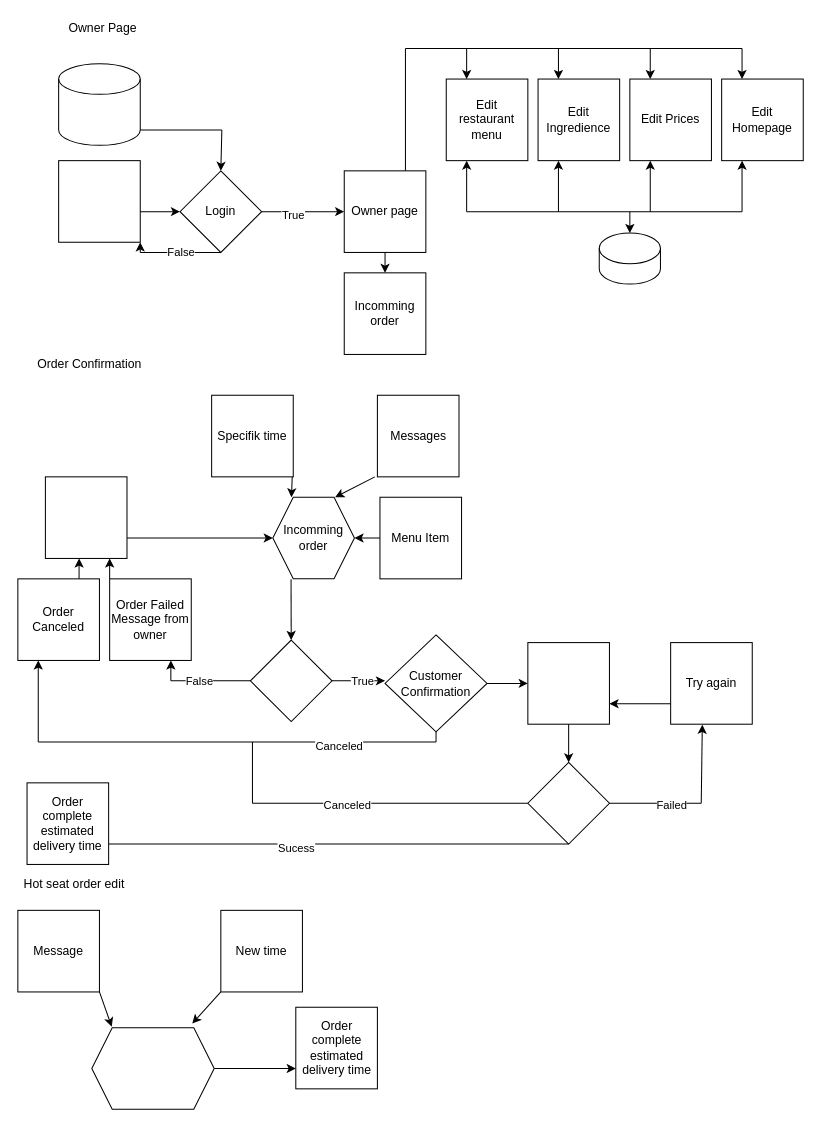
This 821x1127 diagram has some shape labels left out. The shapes that lost their labels are listed below. From the top down, each one's centre as x and y in pixels, then its label:
At pixel 99 104: "Users".
At pixel 99 201: "Hompage".
At pixel 629 258: "Pruducts".
At pixel 85 517: "Placed order".
At pixel 290 680: "Confirm".
At pixel 568 683: "Checkout prompt".
At pixel 568 802: "Payment".
At pixel 152 1068: "Owner Change allready placed order".
